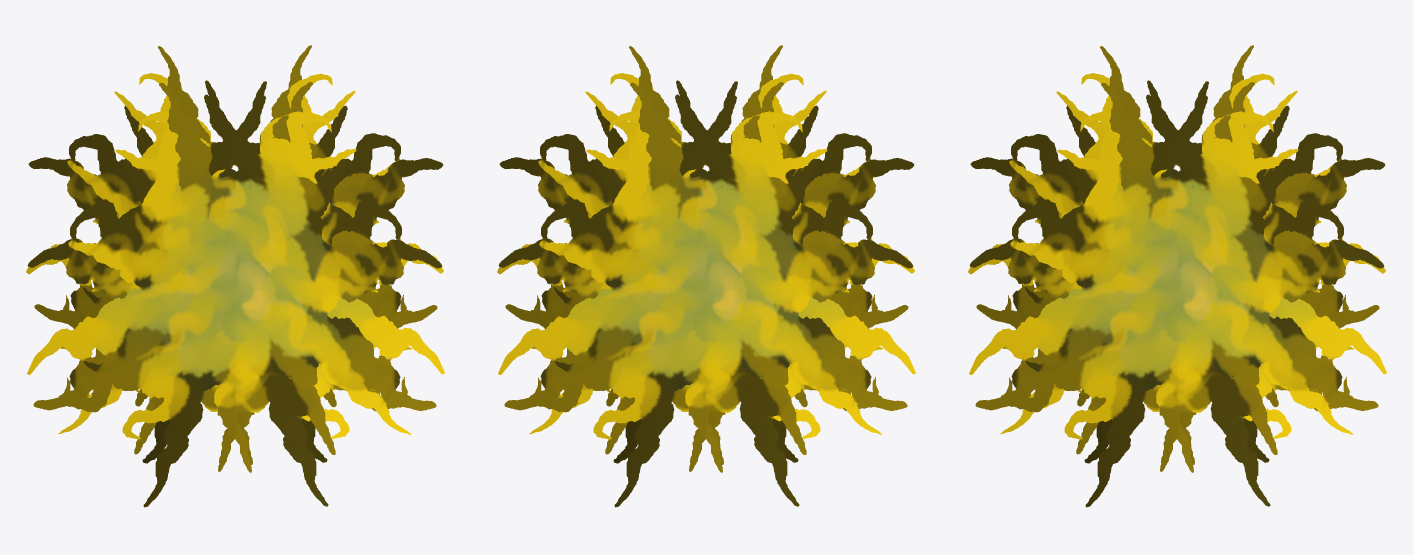
Rendered from HP3_weed053 1.fbx.
3 views of the same model, side by side, from view 1: azimuth 30°, elevation 25°; view 2: azimuth 150°, elevation 25°; view 3: azimuth 270°, elevation 25° (orthographic).
Parts seen in each view (by area): view 1: HP3_weed053; view 2: HP3_weed053; view 3: HP3_weed053.
Part boxes in pixels (x1,y1,x2,y2): HP3_weed053: (26,45,444,507); HP3_weed053: (497,45,915,507); HP3_weed053: (968,45,1386,507).
Bounding box in the file's own units: 10.29 × 9.79 × 8.93.
